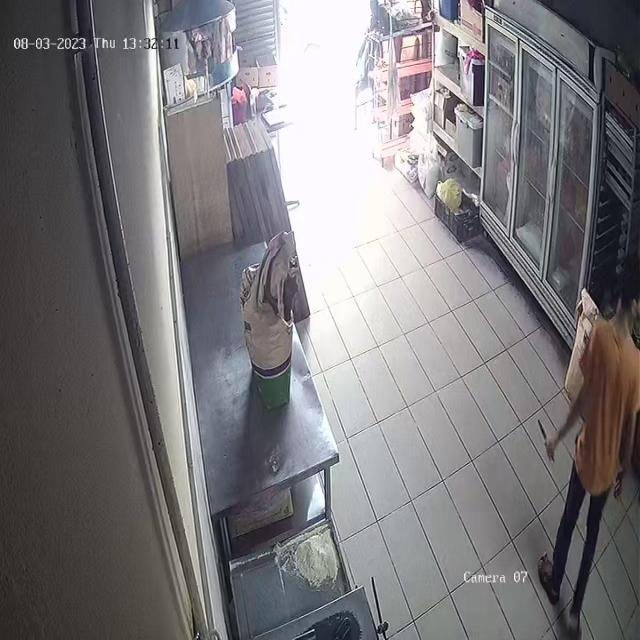Knife: (532, 410, 559, 464)
